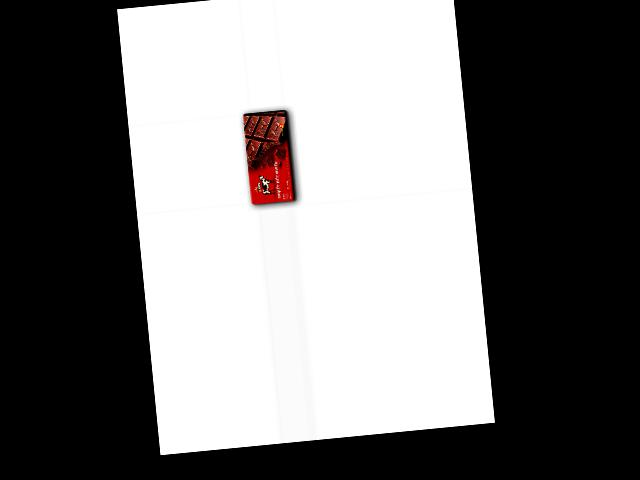chocolate: (240, 107, 298, 207)
